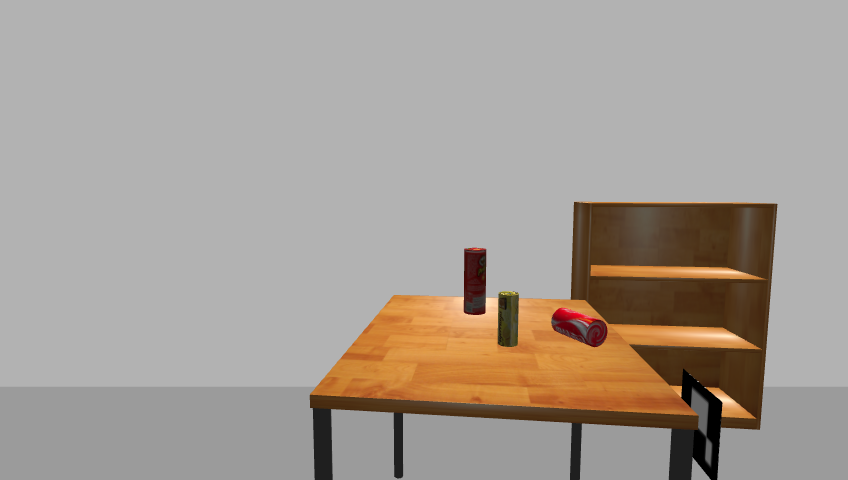aruco marker: (677, 369, 726, 479)
biscuits pack: (497, 291, 520, 349)
bookshelf: (566, 198, 784, 436)
coke can: (549, 307, 610, 347)
dinner table: (306, 293, 701, 479)
pringles can: (461, 246, 489, 317)
